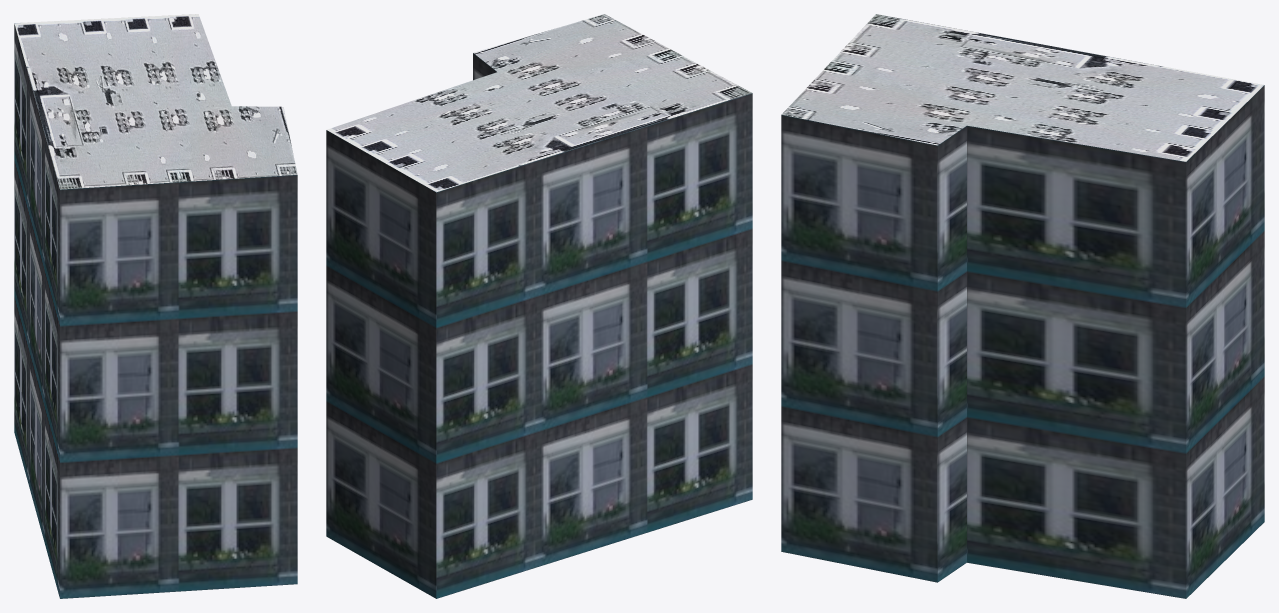
The model's file is ResTex__4725.fbx.
3 views of the same model, side by side, from view 1: azimuth 30°, elevation 25°; view 2: azimuth 150°, elevation 25°; view 3: azimuth 270°, elevation 25° (orthographic). The views are drawn at different scales.
Visible parts, largest first — view 1: CityEngineMaterial_11_m, CityEngineMaterial_4_m; view 2: CityEngineMaterial_11_m, CityEngineMaterial_4_m; view 3: CityEngineMaterial_11_m, CityEngineMaterial_4_m.
Part boxes in pixels (x1,y1,x2,y2): CityEngineMaterial_11_m: (14,24,297,598); CityEngineMaterial_4_m: (14,14,297,189); CityEngineMaterial_11_m: (326,53,752,598); CityEngineMaterial_4_m: (327,14,751,192); CityEngineMaterial_11_m: (781,85,1264,598); CityEngineMaterial_4_m: (782,14,1263,161).
Size of the model in its own units: 6.53 by 9 by 9.02.
Materials: 2 (2 with a texture image).
